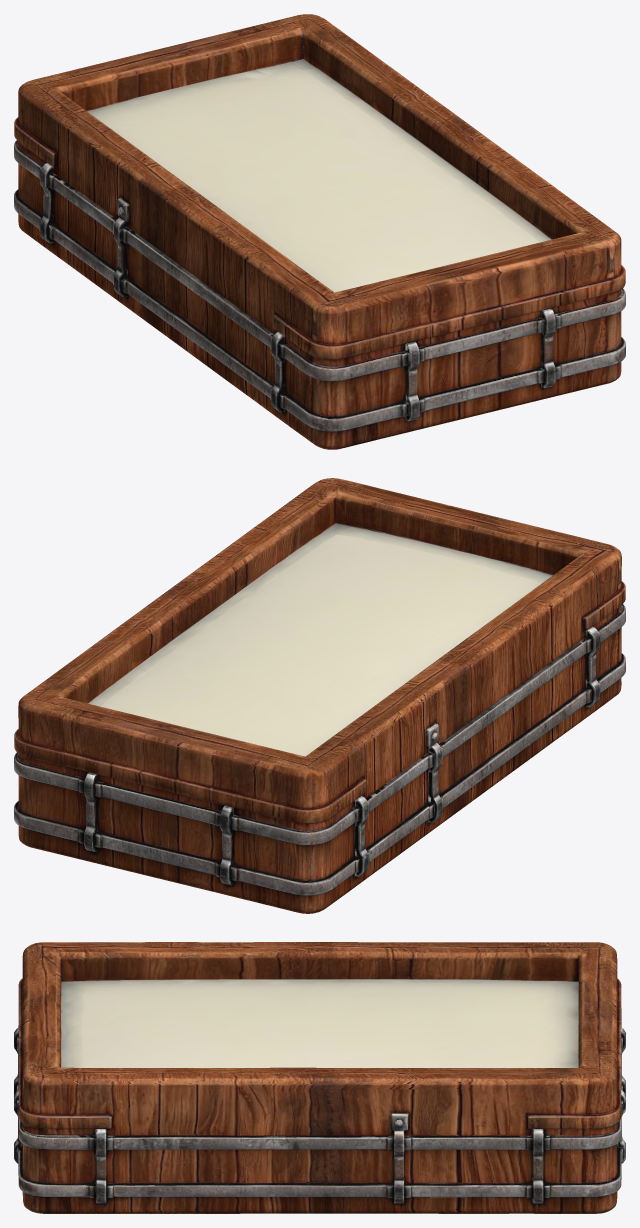
File: vat.glb
3 views of the same model, one above another, from view 1: azimuth 30°, elevation 25°; view 2: azimuth 150°, elevation 25°; view 3: azimuth 270°, elevation 25° (orthographic). The views are drawn at different scales.
Visible parts, largest first — view 1: vat; view 2: vat; view 3: vat.
Boxes of the visible parts, x1,y1,x2,y2 form: vat: [14, 14, 625, 449]; vat: [14, 478, 625, 913]; vat: [14, 942, 625, 1213].
Size of the model in its own units: 0.5785 by 0.2444 by 1.
1 material, 1 textured.
